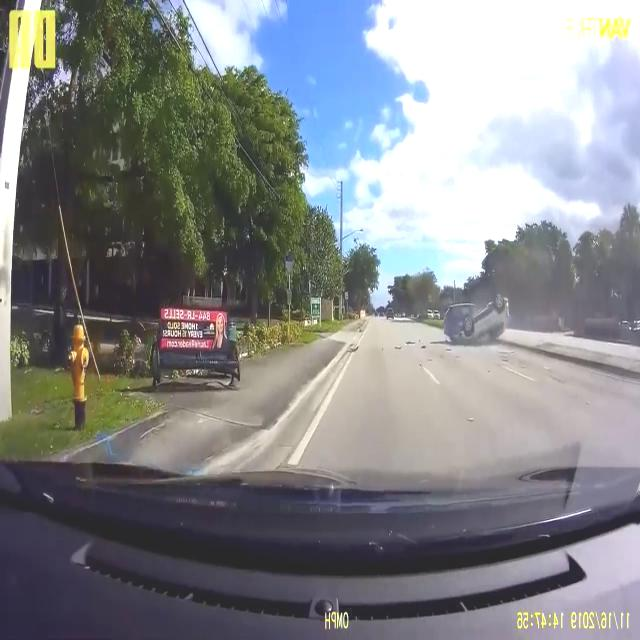accident: (446, 294, 508, 344)
